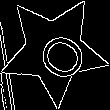O_NW: (22, 19, 86, 82)
